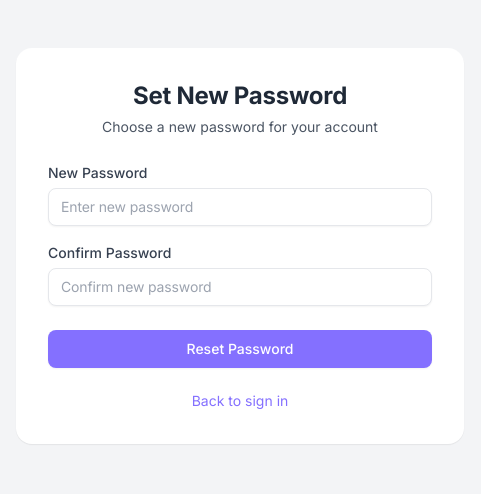
it: ResetPasswordView › shows error from ApiRequestError on failure
Type "newpassword" into the password field with id "reset-password" at (240, 207), box [48,188,432,226]
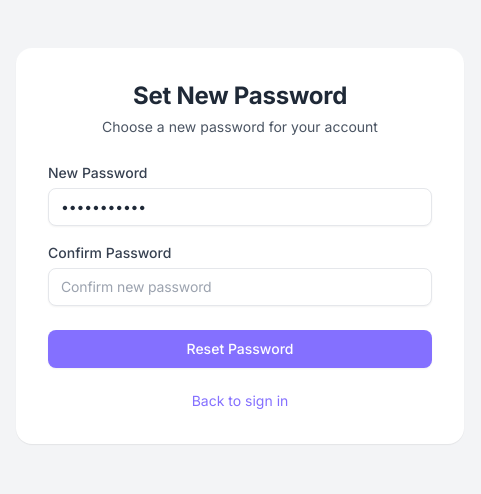
Type "newpassword" into the password field with id "reset-confirm" at (240, 287), box [48,268,432,306]
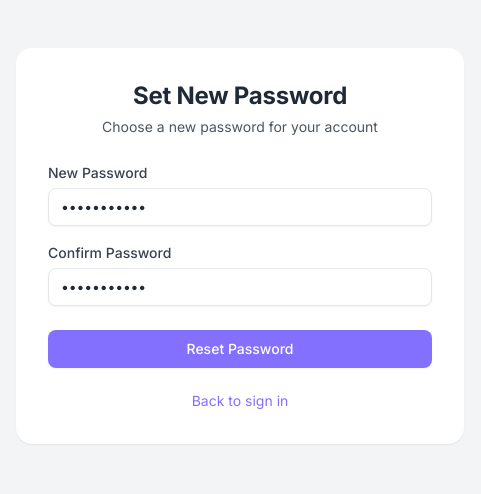
Submit the form, box [48,162,432,368]
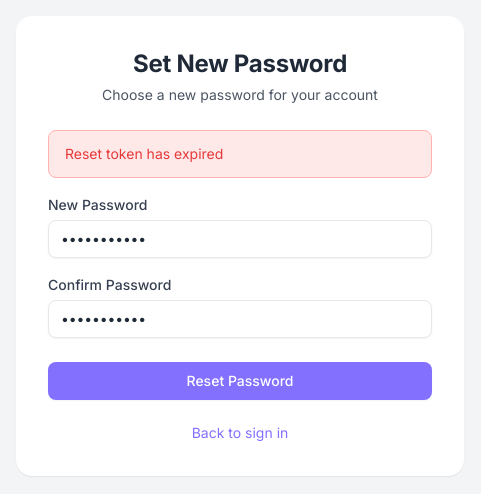
Now the text "Reset token has expired" is shown, box [48,130,432,178]
